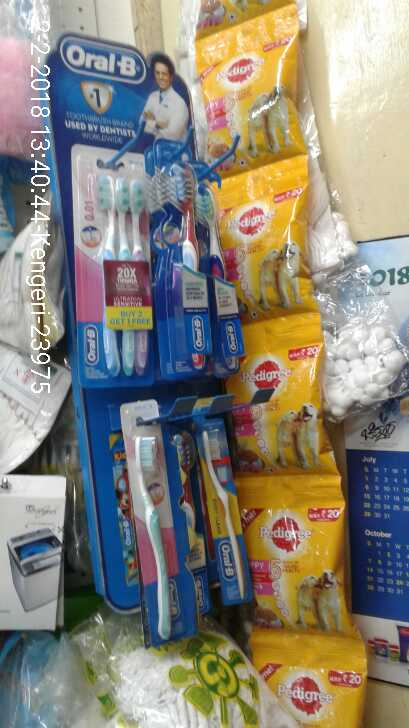oralb: (147, 163, 244, 372), (75, 163, 146, 377), (201, 421, 248, 603), (133, 411, 169, 646)
